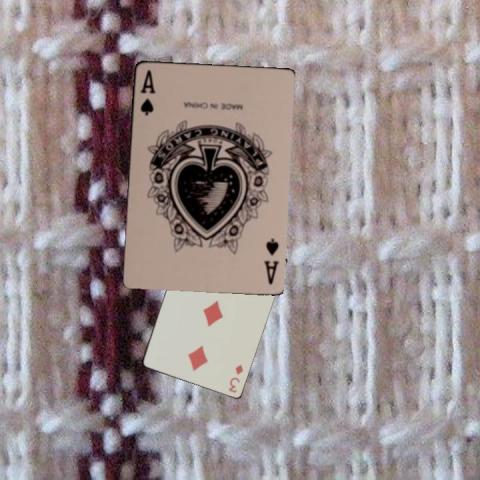3d: (225, 361, 245, 394)
As: (137, 66, 156, 116), (261, 235, 280, 285)
